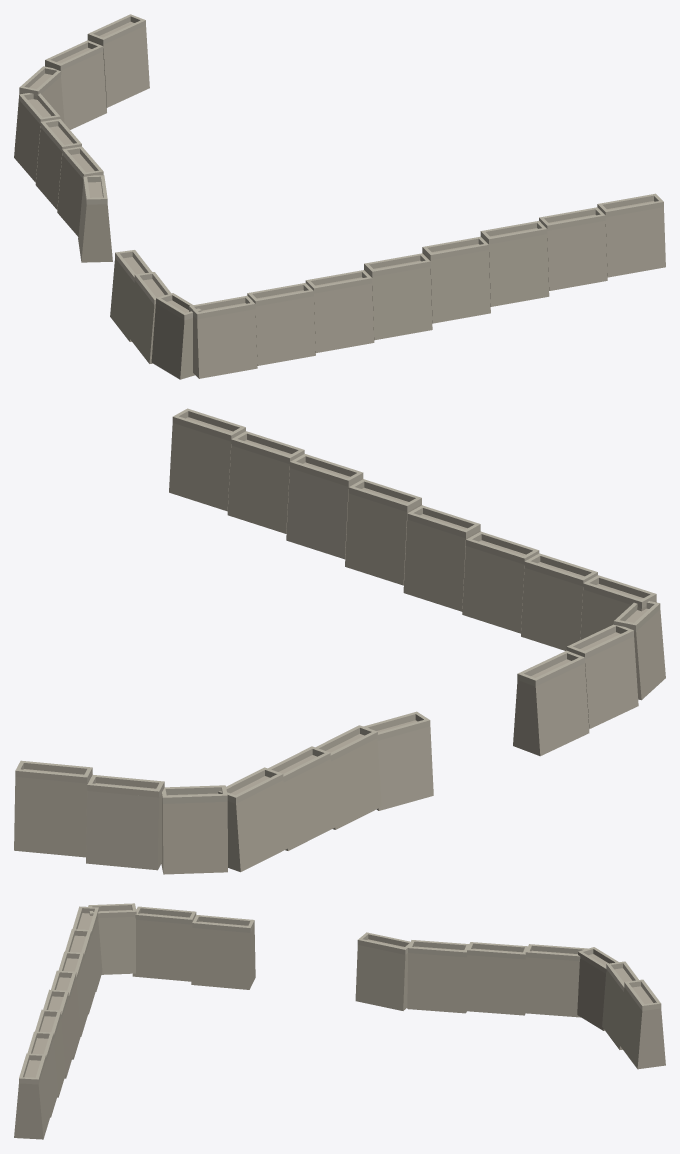
The model's file is bormla_58_32_collision.glb.
3 views of the same model, one above another, from view 1: azimuth 30°, elevation 25°; view 2: azimuth 150°, elevation 25°; view 3: azimuth 270°, elevation 25° (orthographic). The views are drawn at different scales.
Visible parts, largest first — view 1: geometry_0; view 2: geometry_0; view 3: geometry_0.
Boxes of the visible parts, x1=… form: geometry_0: x1=14, y1=14, x2=665, y2=379; geometry_0: x1=14, y1=408, x2=665, y2=874; geometry_0: x1=14, y1=903, x2=665, y2=1139.
Bounding box in the file's own units: 99.53 × 21.41 × 131.
